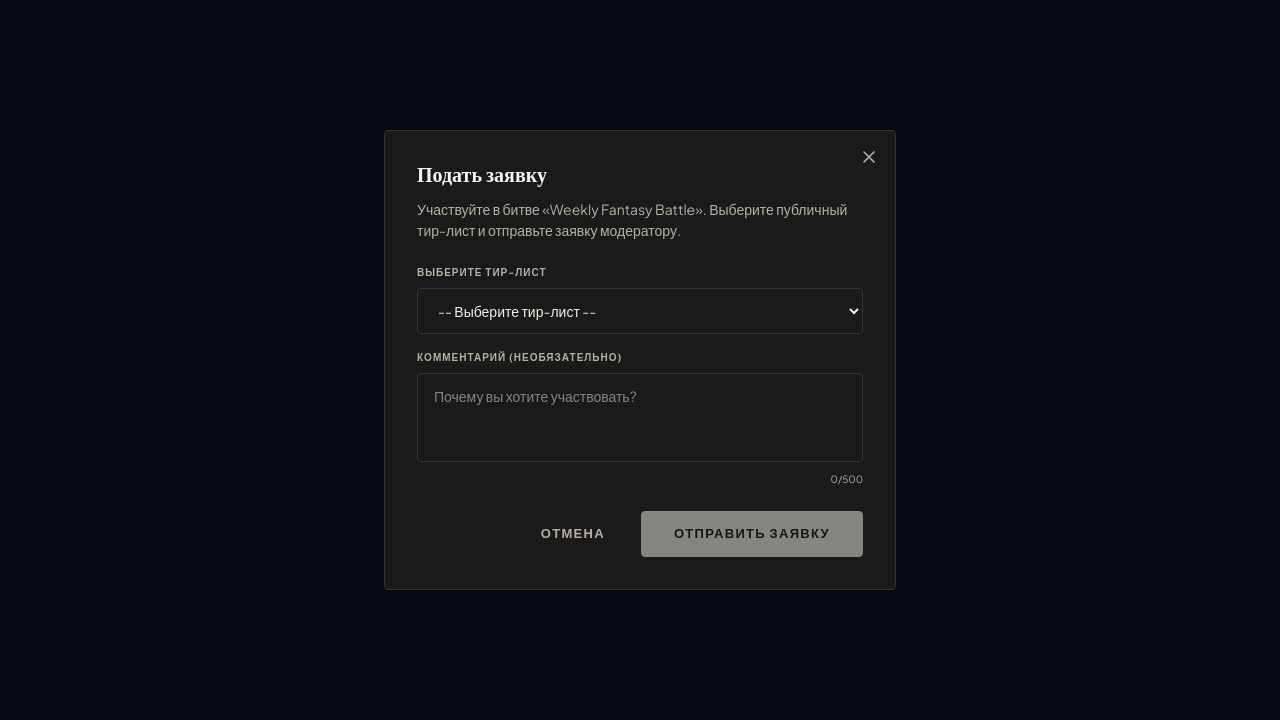
Test case: BattleApplyModal › должен показывать состояние успеха после отправки
Step 1. Select "My Fantasy List" in the dropdown → [640, 311], box [417,288,863,334]
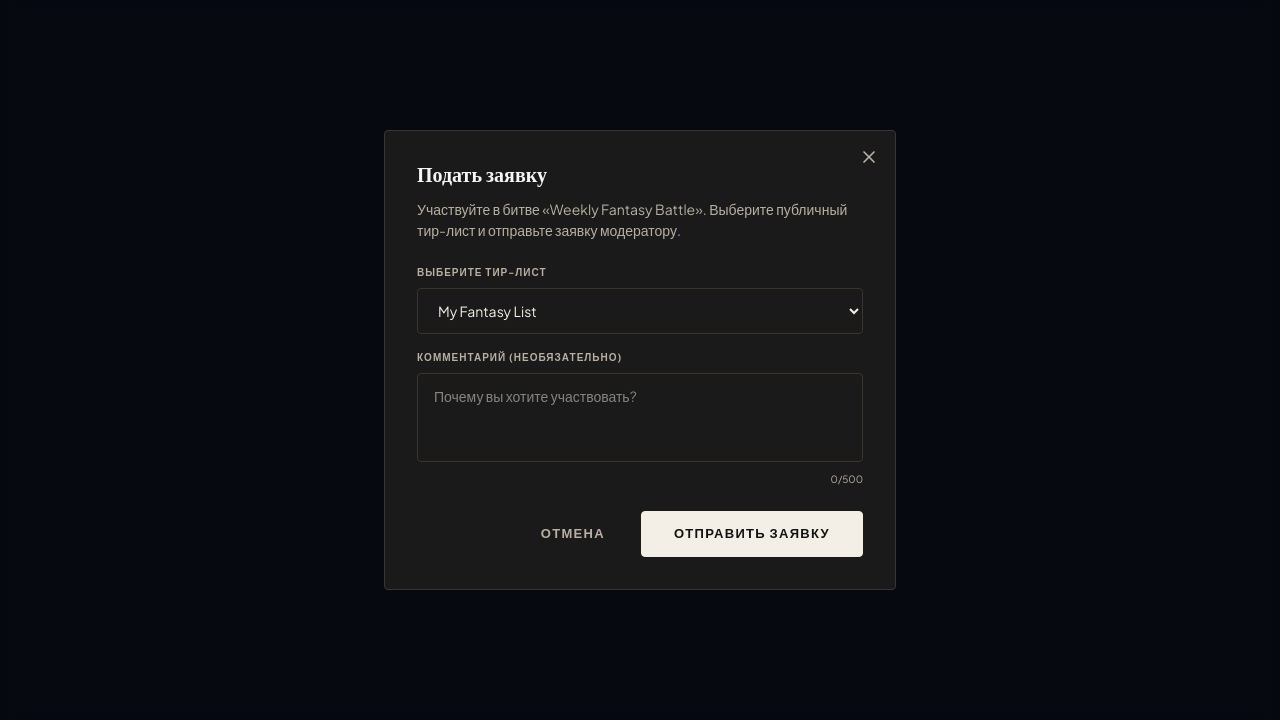
Step 2. Click the button "Отправить заявку" → [752, 534], box [641,511,863,557]
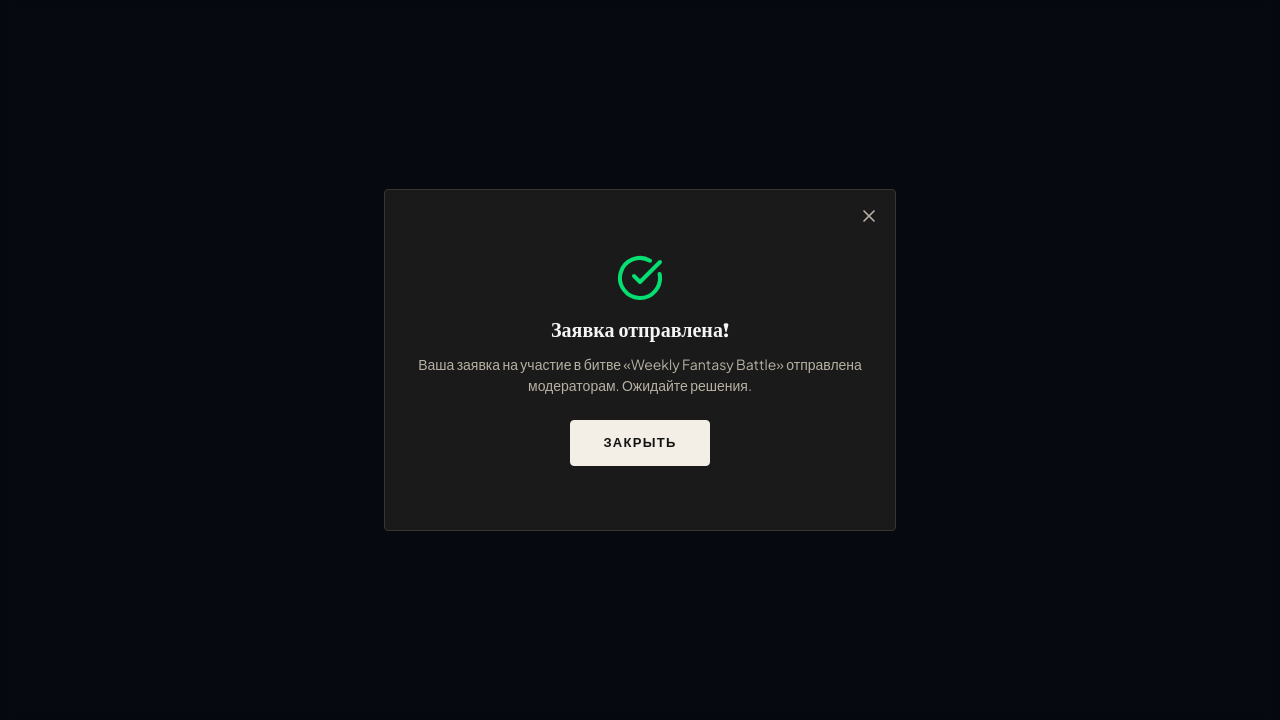
Expected: the heading "Заявка отправлена!" is shown, [551,322,729,342]
